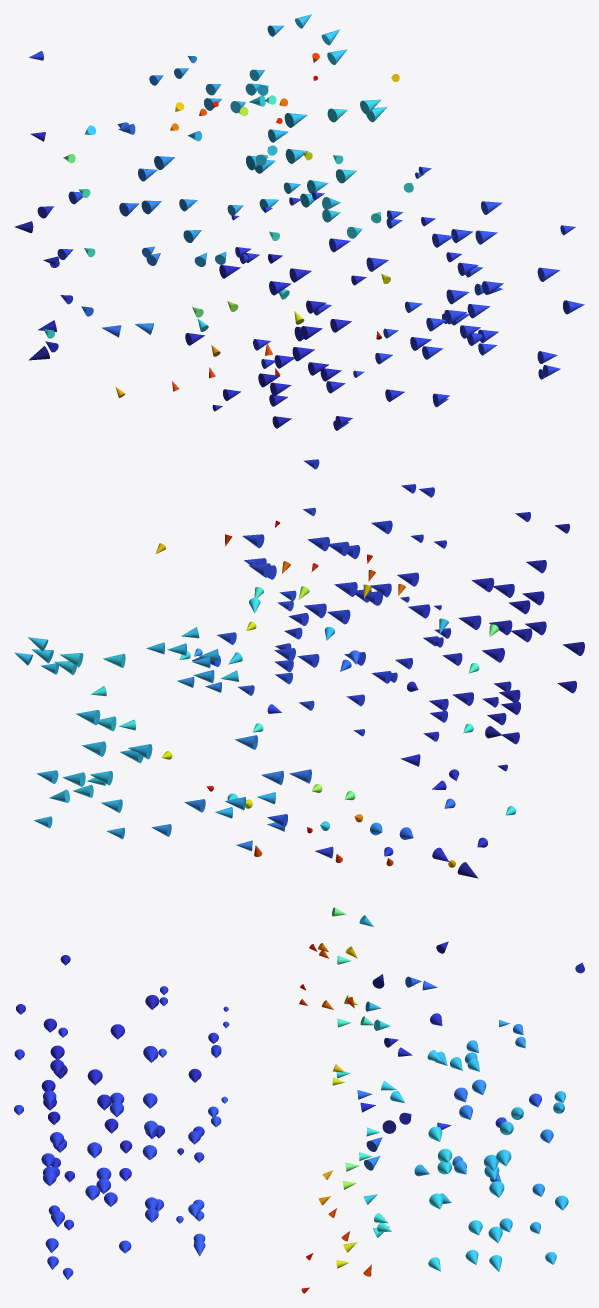
Rendered from LineasCorrienteN2-H2O_mh2-6.88_V-1.1.glb.
3 renders of one model, top to bottom at view 1: azimuth 30°, elevation 25°; view 2: azimuth 150°, elevation 25°; view 3: azimuth 270°, elevation 25°, orthographic. The views are drawn at different scales.
Size of the model in its own units: 0.000993 by 0.0007 by 0.00122.
Materials: 2 (2 with a texture image).
